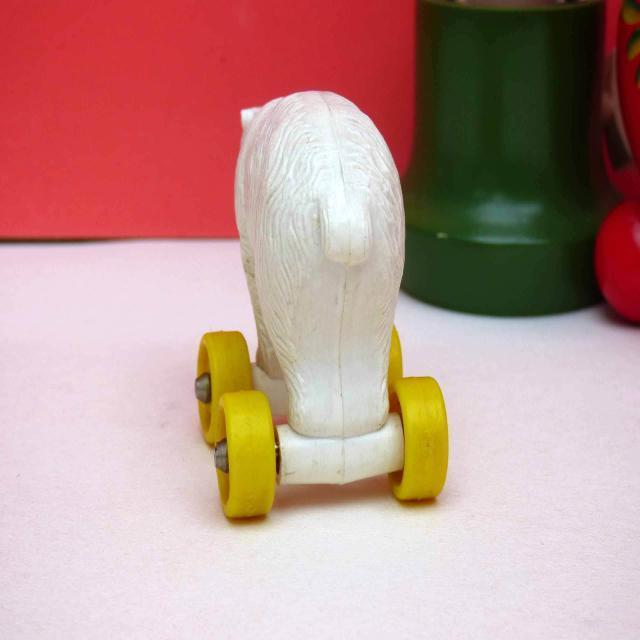hard-toy: (196, 94, 449, 520)
